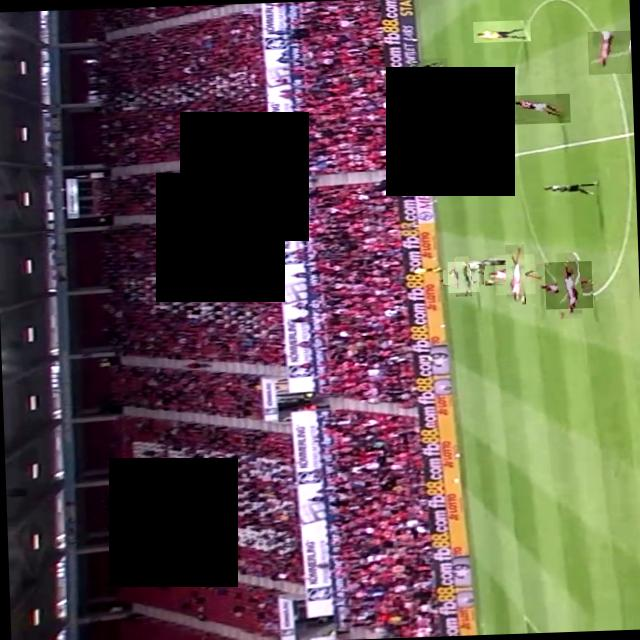referee: (472, 18, 530, 42)
soccer-player: (544, 260, 593, 308), (588, 29, 632, 73), (509, 92, 570, 123), (494, 252, 536, 294), (436, 86, 485, 107), (447, 260, 479, 292), (451, 120, 497, 140), (410, 56, 448, 76)
